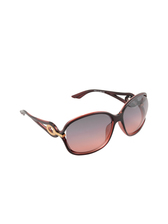glasses: (11, 85, 156, 163)
